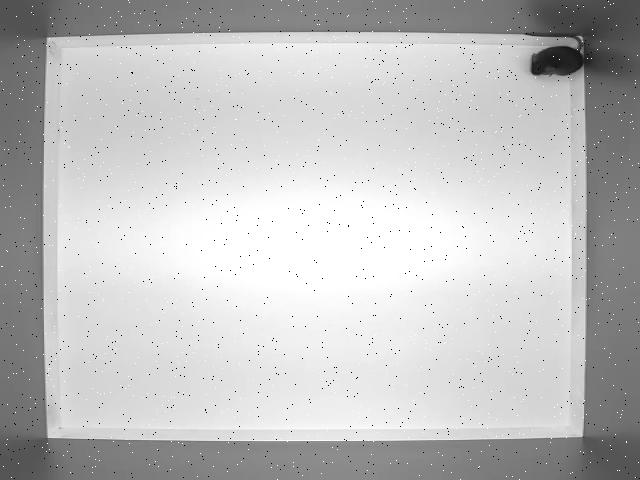Tikus: (520, 31, 586, 78)
